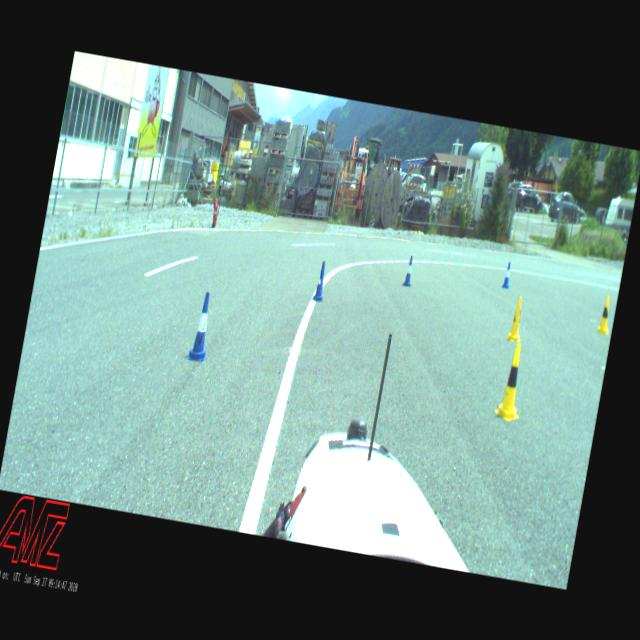blue_cone: (188, 291, 215, 360), (312, 260, 328, 302), (403, 256, 415, 286), (502, 262, 512, 288)
yellow_cone: (497, 342, 528, 420), (507, 295, 526, 341), (596, 294, 614, 334)
